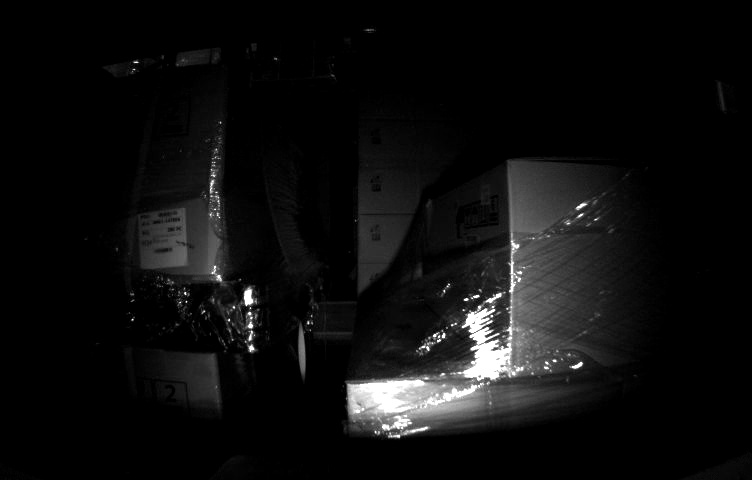True Barcode: (138, 208, 187, 268)
